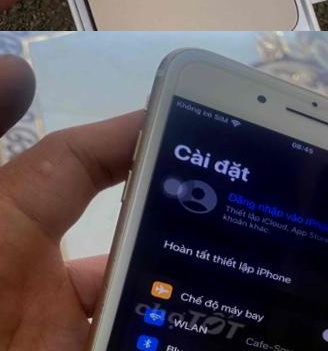scratch: (68, 242, 124, 351)
